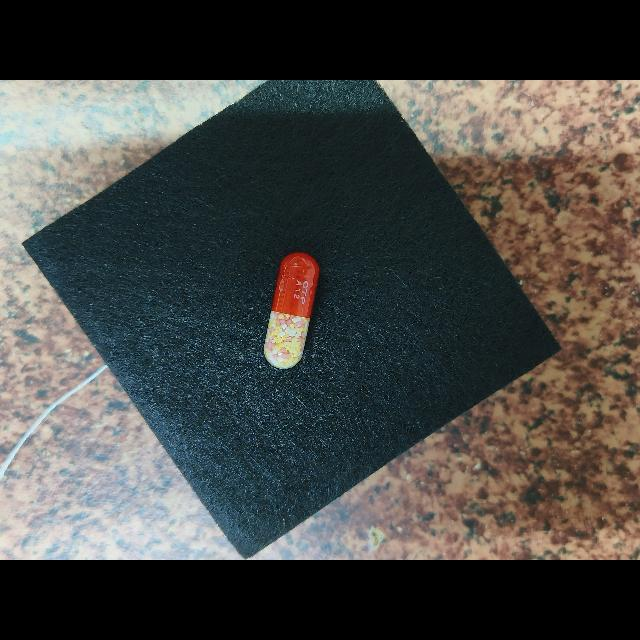Intact Capsule: (264, 252, 320, 369)
